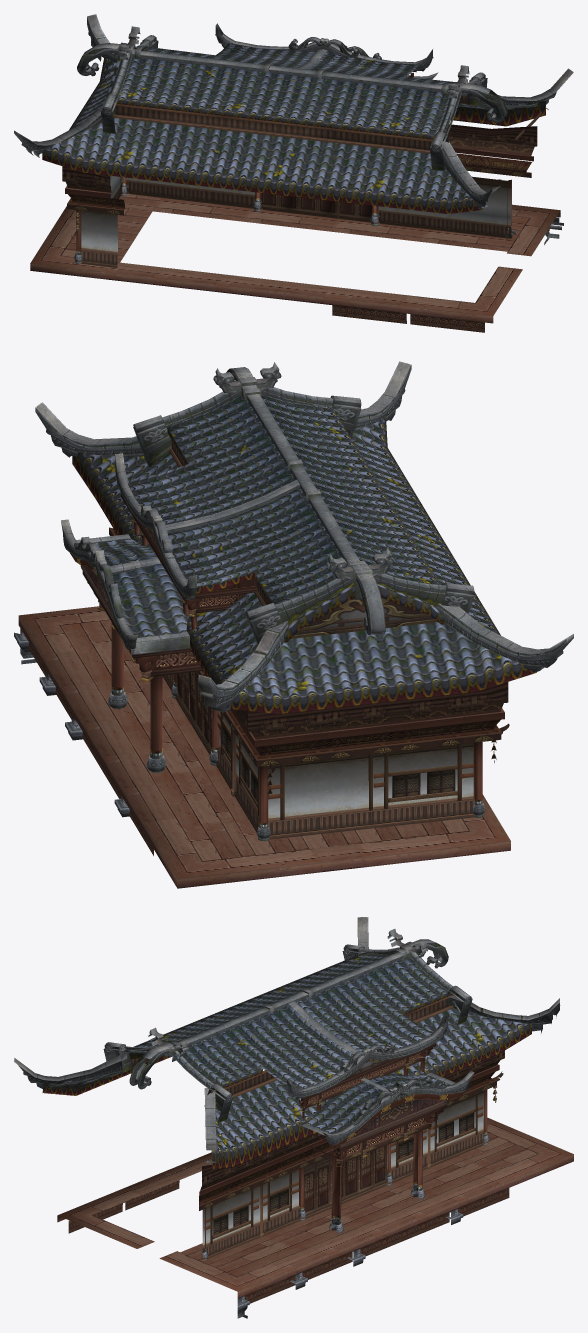
File: S2_Build_XSC023_H2.FBX
3 renders of one model, top to bottom at view 1: azimuth 30°, elevation 25°; view 2: azimuth 150°, elevation 25°; view 3: azimuth 270°, elevation 25°, orthographic. The views are drawn at different scales.
Visible parts, largest first — view 1: S2_Build_XSC023_H2; view 2: S2_Build_XSC023_H2; view 3: S2_Build_XSC023_H2.
Part boxes in pixels (x1,y1,x2,y2): S2_Build_XSC023_H2: [14, 14, 573, 332]; S2_Build_XSC023_H2: [14, 361, 573, 888]; S2_Build_XSC023_H2: [14, 917, 573, 1318].
Bounding box in the file's own units: 6507 × 2908 × 6663.
